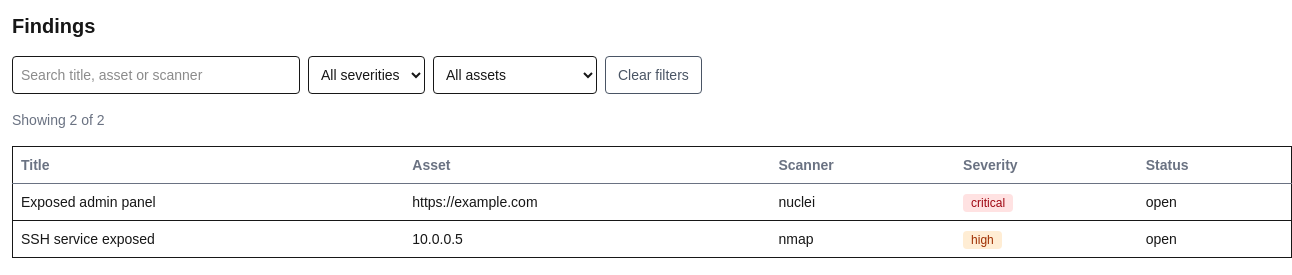
FindingsPage › filters by severity
The width and height of the screenshot is (1292, 275).
Expected: the link "SSH service exposed" is shown, [21, 231, 155, 247]
Select "high" in the 1st dropdown at (366, 75), box [308, 56, 425, 94]
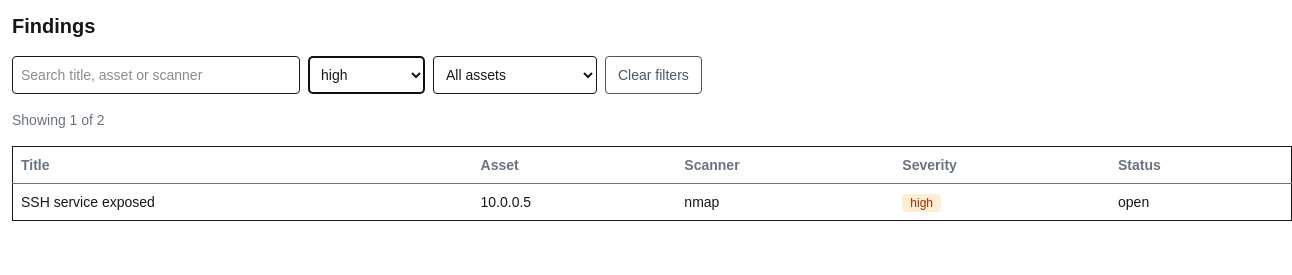
Expected: the link "SSH service exposed" is shown, [21, 194, 155, 210]
Result: the link "Exposed admin panel" is gone
